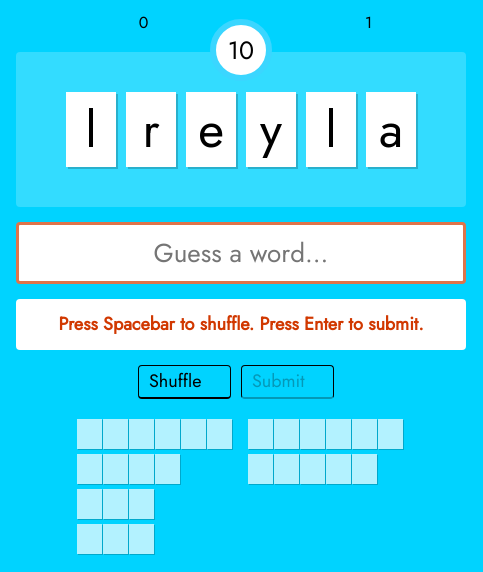
Test: GameContainer component › should display a notification if the user solves a valid word
The width and height of the screenshot is (483, 572).
Type "are" into the field labelled "Guess a word..." at [241, 253], box top-left (16, 222), bottom-right (466, 284)
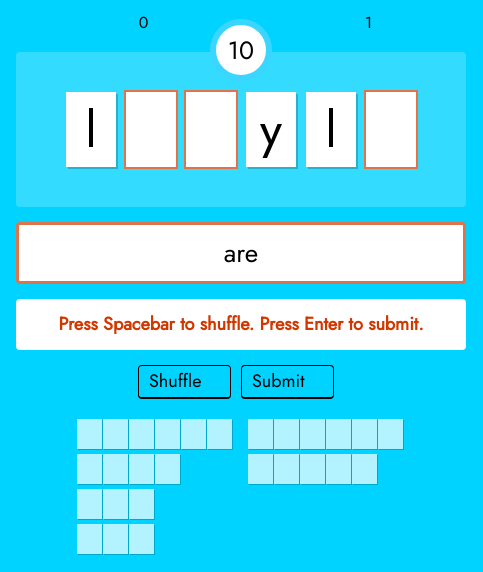
Click the button "Submit" at [287, 382], box top-left (241, 365), bottom-right (334, 399)
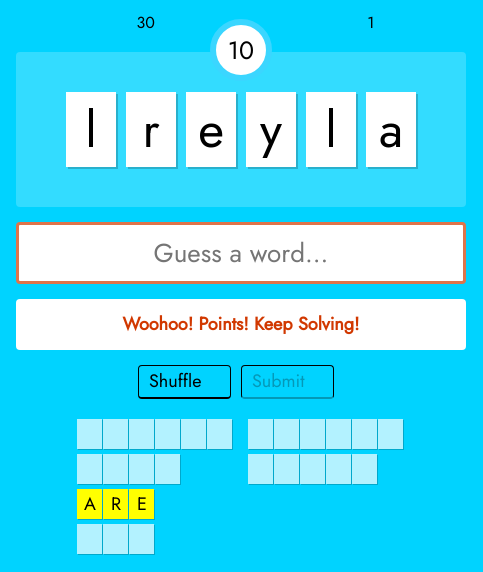
Result: the text "Woohoo! Points! Keep Solving!" is shown at top-left (16, 299), bottom-right (466, 350)
